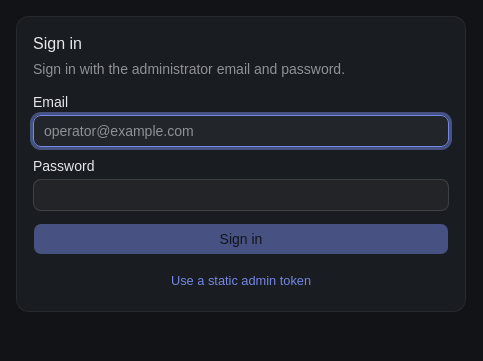
Test case: AuthGate — sign-in › shows a generic error for bad credentials
Type "ops@aether.test" into the field labelled "Email".
click(241, 131); type("ops@aether.test")  # box [33,115,449,147]
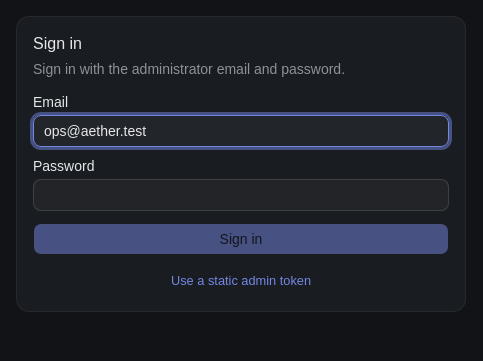
Type "wrong-password" into the password field labelled "Password".
click(241, 195); type("wrong-password")  # box [33,179,449,211]
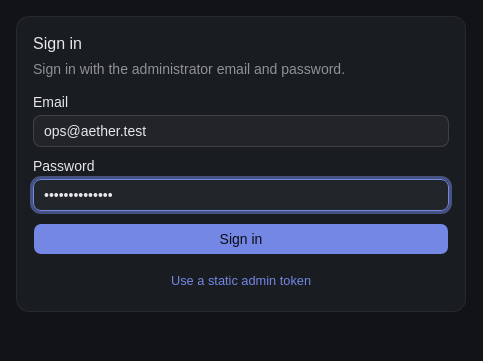
Click the button "Sign in".
click(241, 239)  # box [33,223,449,255]
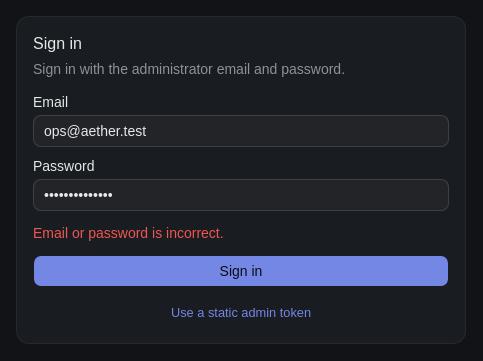
Result: the text "Email or password is incorrect." is shown at [33,225,224,241]
